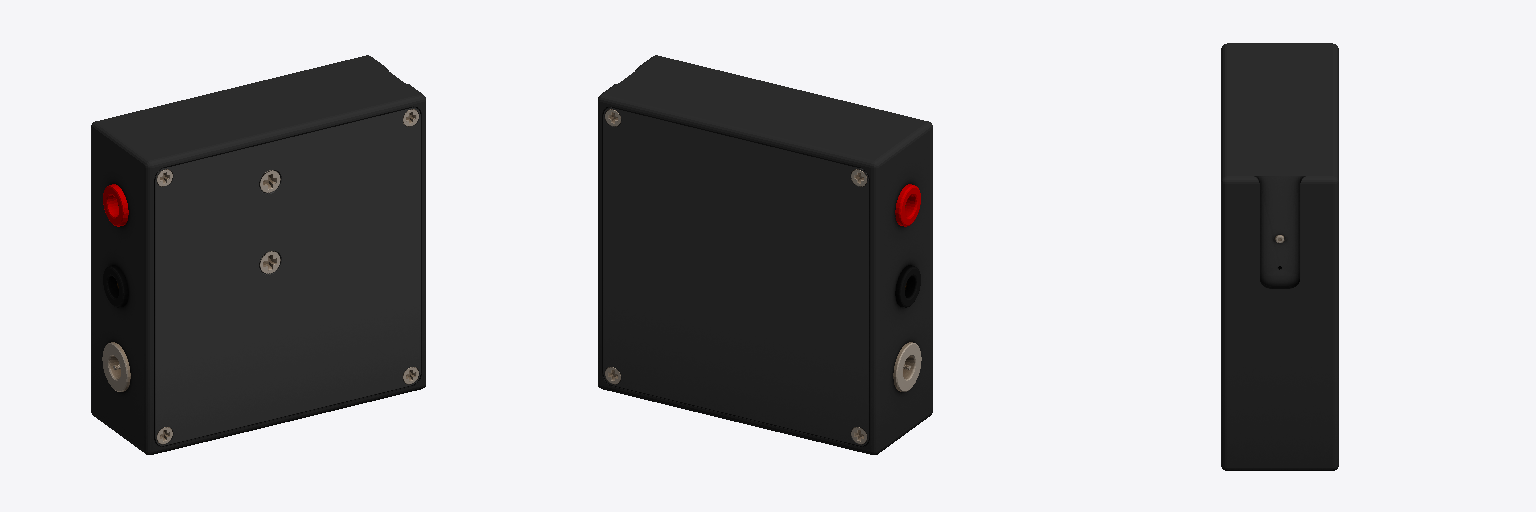
3 views of the same model, side by side, from view 1: azimuth 30°, elevation 25°; view 2: azimuth 150°, elevation 25°; view 3: azimuth 270°, elevation 25° (orthographic).
Visible parts, largest first — view 1: polySurface1414; view 2: polySurface1414; view 3: polySurface1414.
Boxes of the visible parts, <box> form: polySurface1414: <box>91,55,425,454</box>; polySurface1414: <box>598,55,932,454</box>; polySurface1414: <box>1221,43,1338,470</box>.
Bounding box in the file's own units: 81.5 × 80 × 29.02.
1 materials, 1 textured.